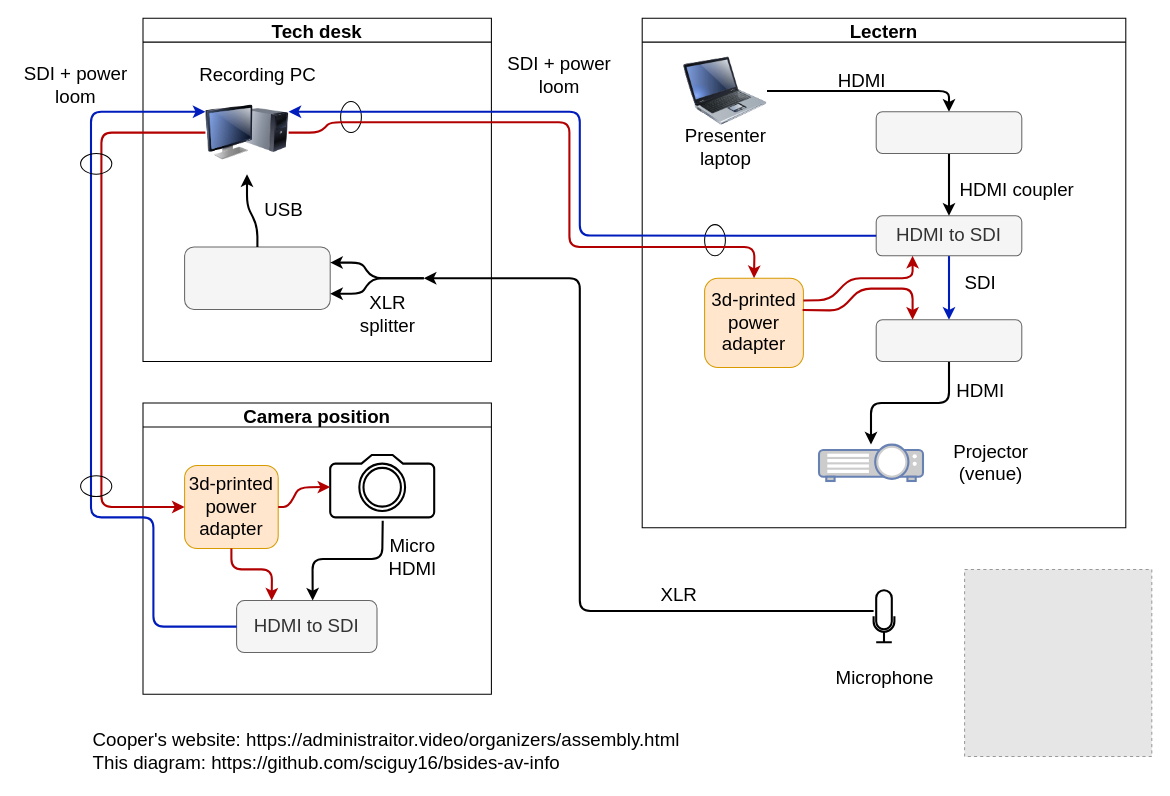
Some shapes in this 1170 by 796 pixel diagram are drawn without their labels. Grey dashed boxes stand in for pictures. Each missing label, with the centre of its shape:
"Audio interface" belongs at [257,277].
"EDID feeder" belongs at [948,132].
"SDI to HDMI" belongs at [948,340].
